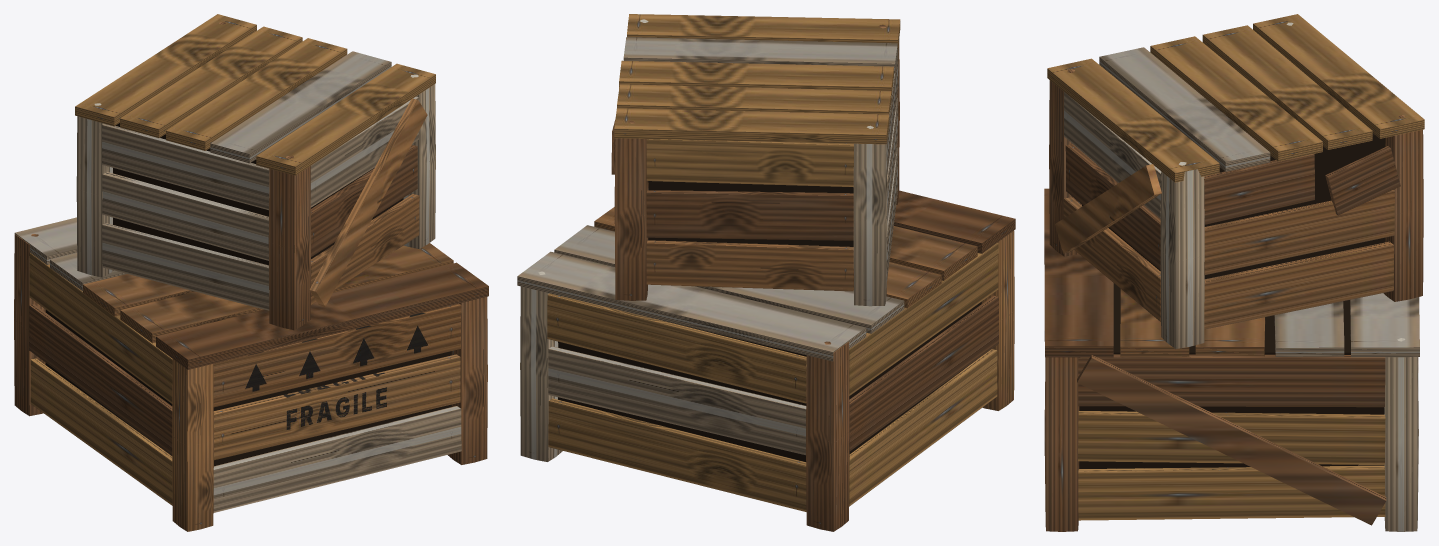
File: prop_soft_crates.glb
The picture shows the model from 3 angles, left to right: view 1: azimuth 30°, elevation 25°; view 2: azimuth 150°, elevation 25°; view 3: azimuth 270°, elevation 25°; orthographic projection. The views are drawn at different scales.
Visible parts, largest first — view 1: prop_soft_crates_body; view 2: prop_soft_crates_body; view 3: prop_soft_crates_body.
Part boxes in pixels (bbox=[...]): prop_soft_crates_body: bbox=[14, 14, 488, 531]; prop_soft_crates_body: bbox=[517, 14, 1015, 531]; prop_soft_crates_body: bbox=[1044, 14, 1424, 531].
Bounding box in the file's own units: 0.8218 × 0.8601 × 0.8134.
Materials: 1 (1 with a texture image).
